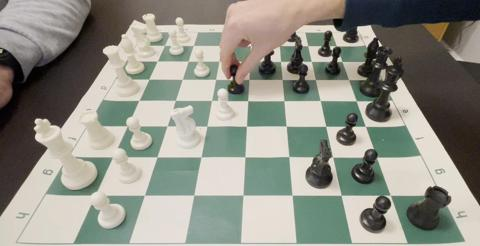xcorner: (332, 40, 342, 50), (182, 56, 192, 66), (151, 56, 161, 66), (344, 74, 354, 84), (311, 74, 321, 84), (277, 74, 287, 84), (210, 74, 220, 84), (352, 95, 362, 105), (279, 95, 289, 105), (161, 121, 171, 131), (121, 121, 131, 131), (328, 151, 338, 161), (284, 151, 294, 161), (386, 189, 396, 199), (337, 189, 347, 199), (238, 189, 248, 199), (303, 41, 313, 50), (274, 41, 284, 50), (245, 41, 255, 50), (216, 41, 226, 50), (187, 41, 197, 50), (158, 41, 168, 50), (338, 56, 347, 66), (307, 56, 316, 66), (276, 56, 285, 66), (245, 56, 254, 66), (214, 56, 223, 66), (244, 74, 253, 84), (177, 74, 186, 84), (143, 74, 152, 84), (316, 95, 325, 105), (206, 96, 216, 105), (133, 96, 143, 105), (361, 121, 371, 130), (321, 121, 331, 130), (373, 151, 382, 161), (240, 152, 250, 161), (107, 152, 117, 161), (288, 189, 297, 199), (139, 190, 149, 199), (243, 96, 252, 105), (170, 96, 179, 105), (282, 121, 291, 130), (242, 121, 251, 130), (202, 121, 211, 130), (196, 152, 205, 161), (152, 152, 161, 161), (189, 190, 198, 199), (90, 190, 99, 199)
